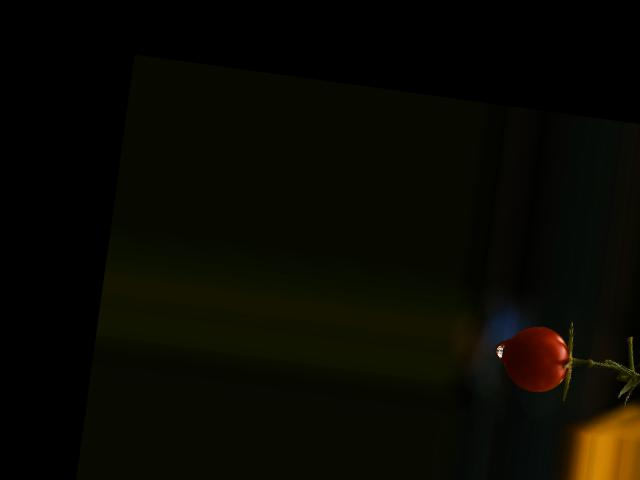tomato: (500, 321, 573, 395)
